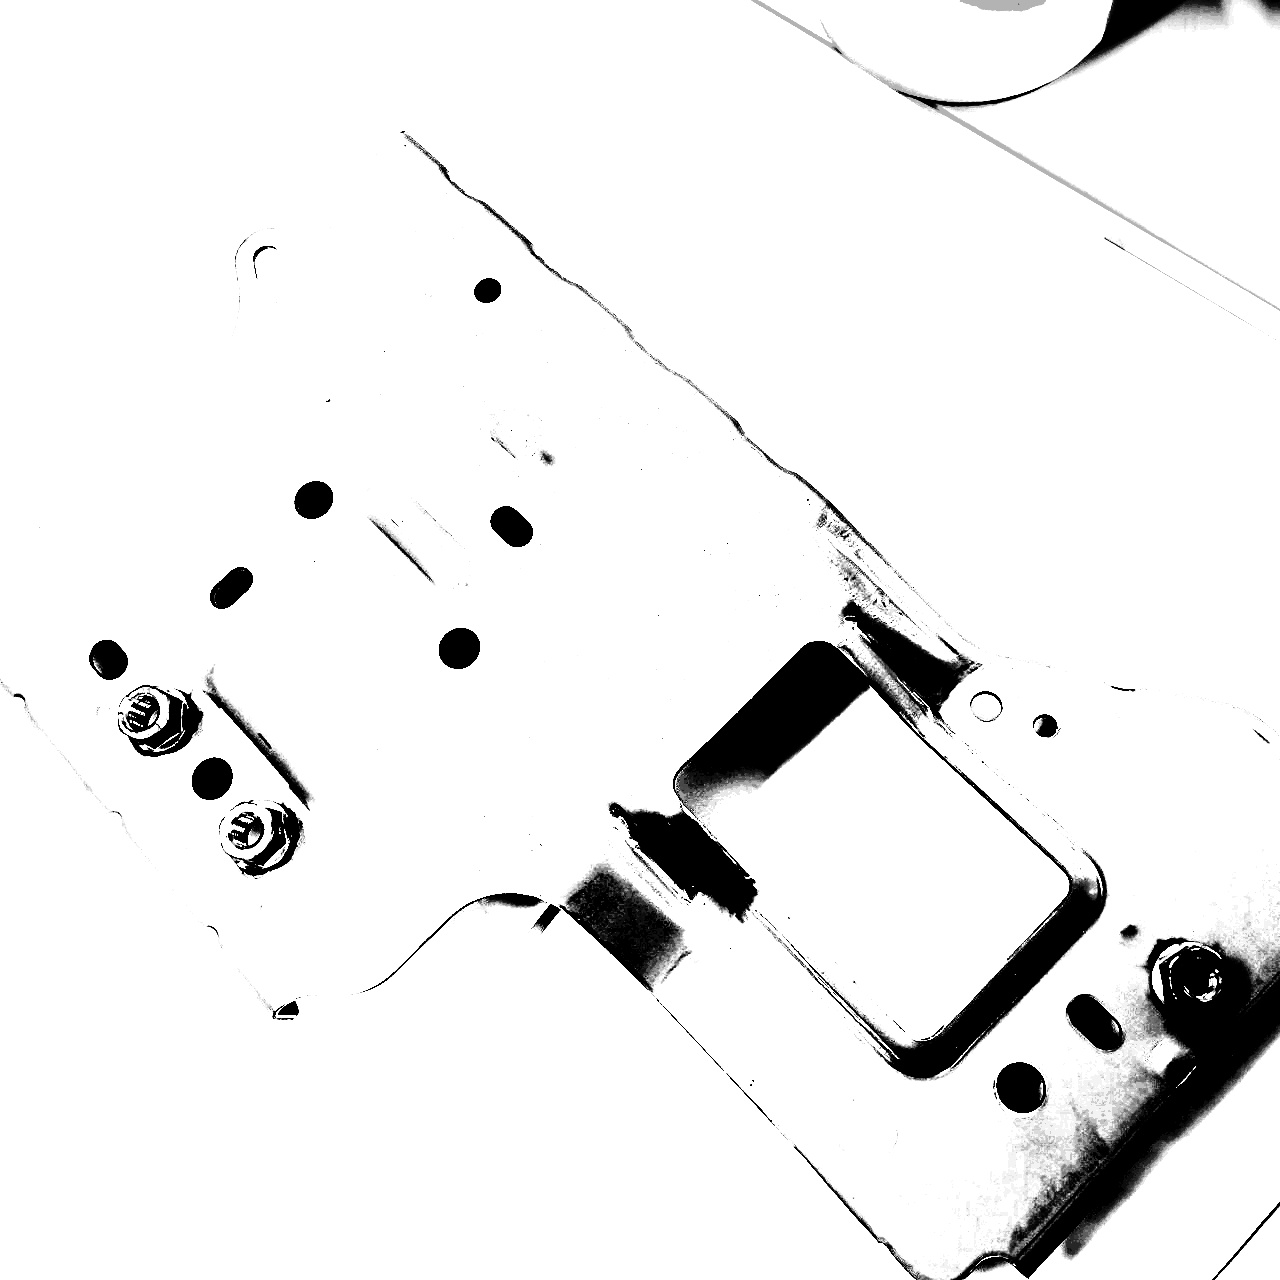dog: (1146, 938, 1238, 1030), (216, 794, 300, 880), (113, 680, 200, 762)
